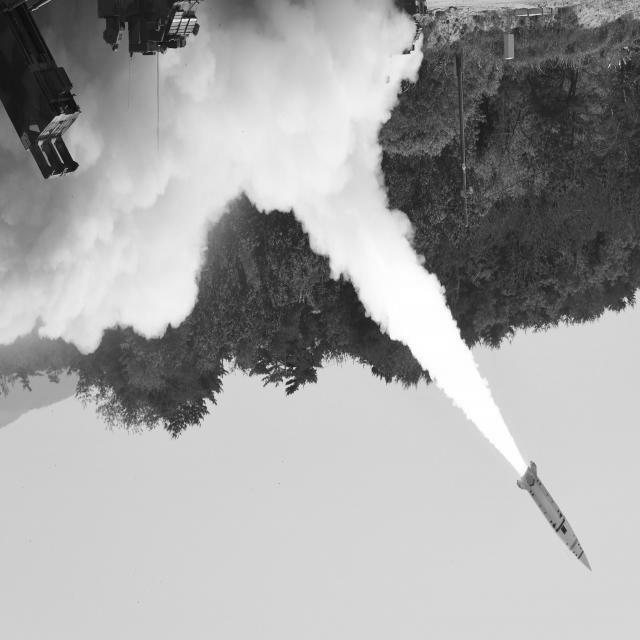Missile: (512, 454, 597, 584)
